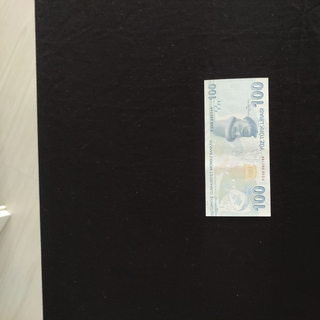100TLBack: (203, 77, 271, 216)
